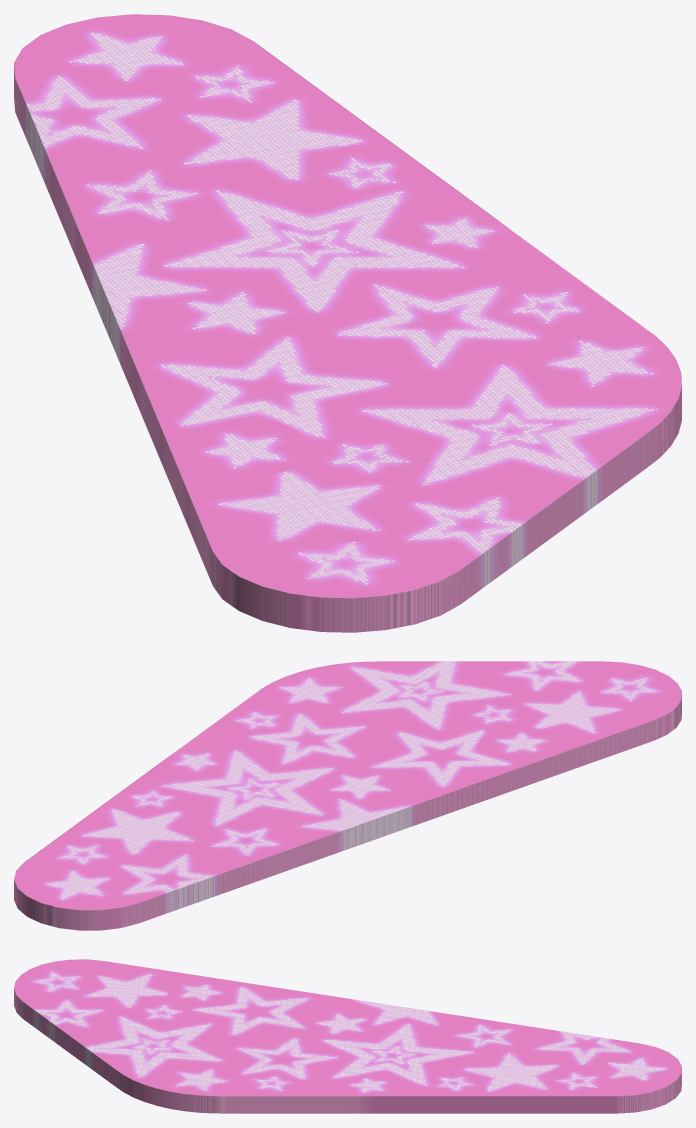
The model's file is Y_slingshot_top_plate.fbx.
The picture shows the model from 3 angles, top to bottom: view 1: azimuth 30°, elevation 25°; view 2: azimuth 150°, elevation 25°; view 3: azimuth 270°, elevation 25°; orthographic projection. The views are drawn at different scales.
Parts seen in each view (by area): view 1: top_plate_1; view 2: top_plate_1; view 3: top_plate_1.
Part boxes in pixels (bbox=[...]): top_plate_1: bbox=[14, 14, 681, 632]; top_plate_1: bbox=[14, 661, 681, 930]; top_plate_1: bbox=[14, 959, 681, 1113].
Size of the model in its own units: 0.852 by 0.05 by 1.76.
1 material, 1 textured.
